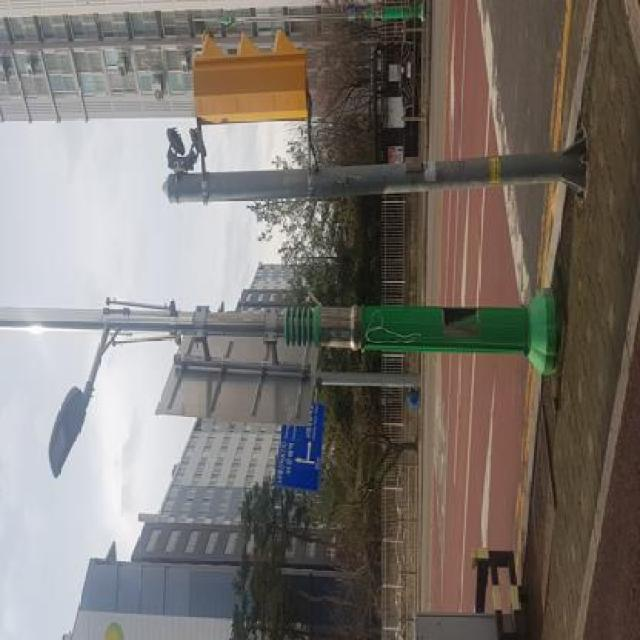pole: (40, 290, 571, 378)
